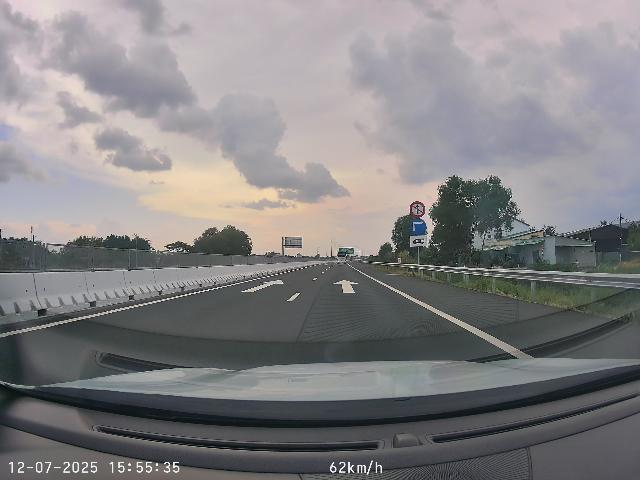136-cam-di-thang: (409, 201, 426, 218)
301d-cac-xe-chi-duoc-re-phai-2: (410, 218, 427, 235)
